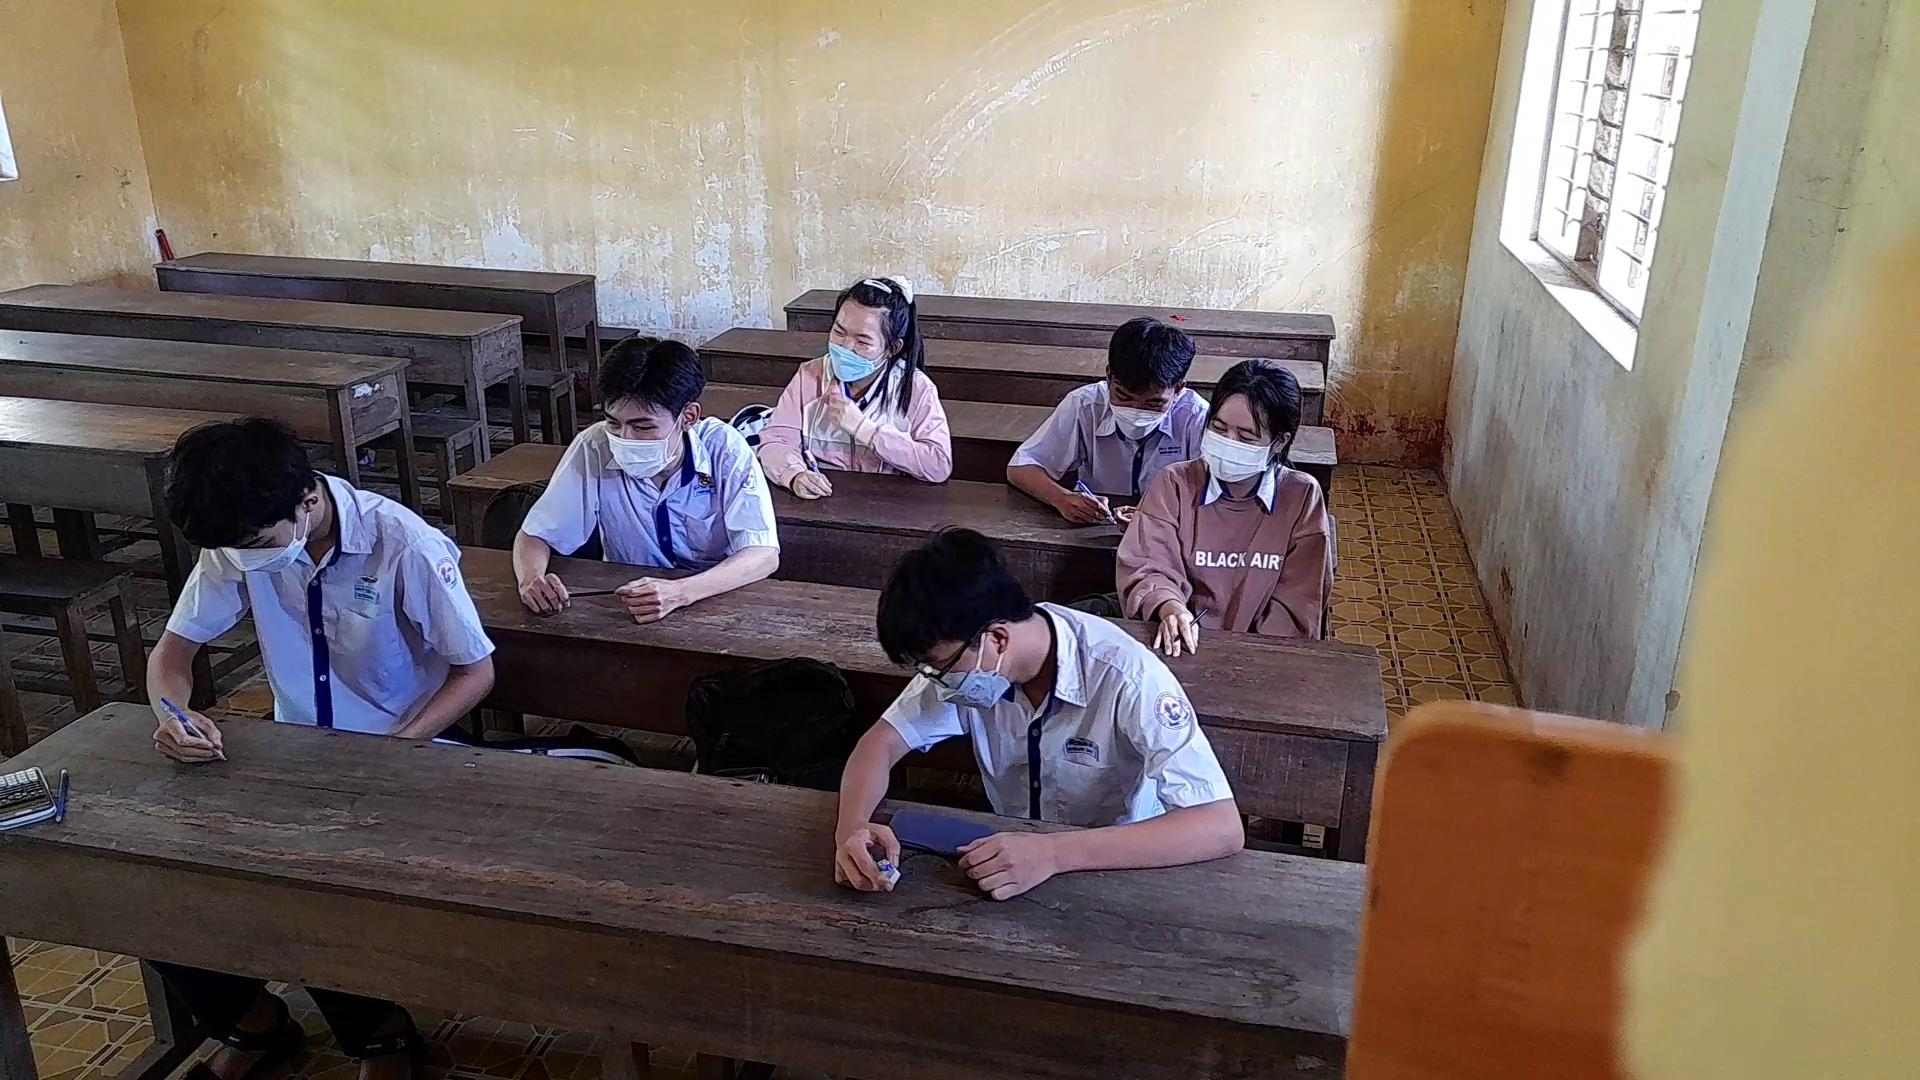Bend Over The Desk: (156, 393, 344, 593), (870, 521, 1059, 720)
Hand Under Table: (369, 535, 509, 762), (1242, 471, 1361, 654)
Normal: (498, 320, 787, 618), (497, 318, 785, 616), (746, 255, 969, 512), (990, 299, 1200, 530)
